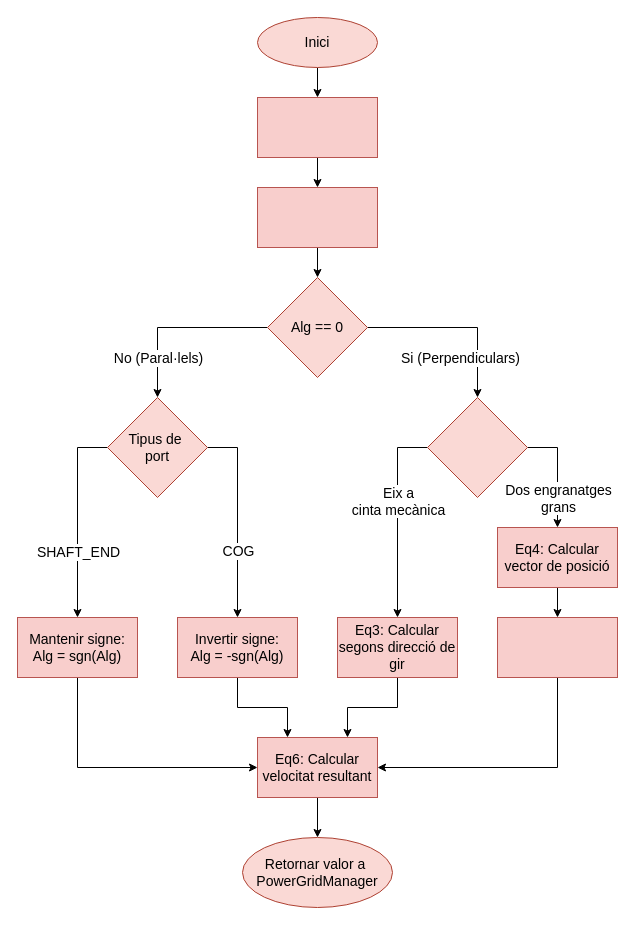
Some shapes in this 635 by 925 pixel diagram are drawn without their labels. Each missing label, with the centre of its shape:
Eq1: Calcular velocitat d'entrada: the point at 317,127
Eq2: Calcular alineació inicial: the point at 317,217
Eq5: Calcular alineació vectorial: the point at 557,647
Tipus de connexió: the point at 477,447
